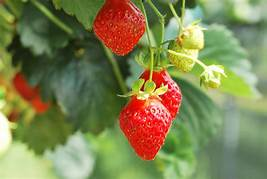Fresa: (117, 90, 175, 164), (88, 1, 153, 59), (132, 65, 183, 120)
